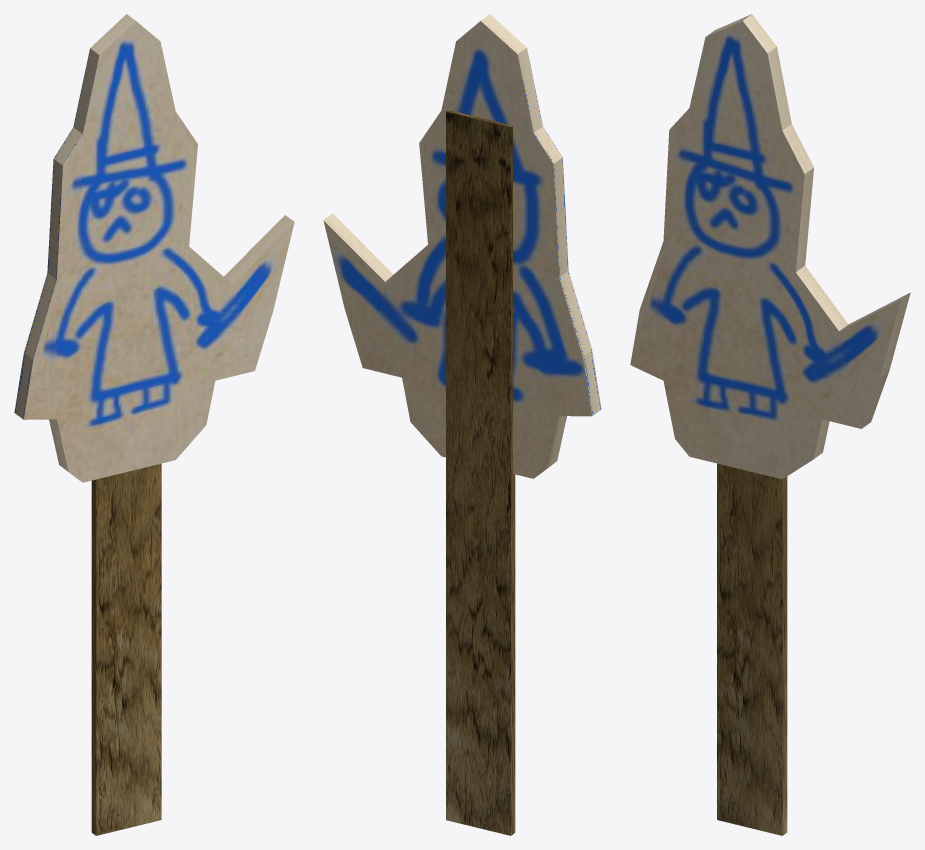
The model's file is SorcererEnemy.fbx.
The picture shows the model from 3 angles, left to right: view 1: azimuth 30°, elevation 25°; view 2: azimuth 150°, elevation 25°; view 3: azimuth 330°, elevation 25°; orthographic projection.
Visible parts, largest first — view 1: Cube, Stick.001; view 2: Stick.001, Cube; view 3: Cube, Stick.001.
Boxes of the visible parts, x1,y1,x2,y2 form: Cube: [14, 14, 294, 482]; Stick.001: [91, 463, 161, 835]; Stick.001: [446, 110, 515, 835]; Cube: [323, 14, 601, 478]; Cube: [630, 14, 910, 479]; Stick.001: [717, 463, 787, 835].
Size of the model in its own units: 85.45 by 245 by 6.57.
Materials: 2 (2 with a texture image).
